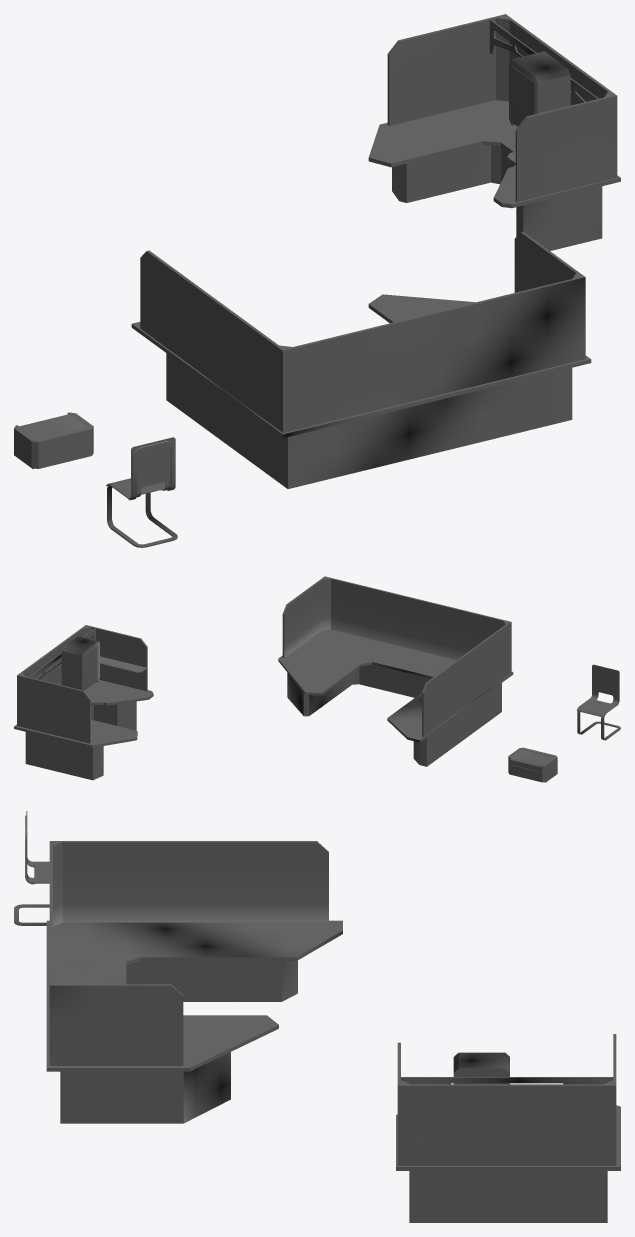
File: Props_02.FBX
3 views of the same model, one above another, from view 1: azimuth 30°, elevation 25°; view 2: azimuth 150°, elevation 25°; view 3: azimuth 270°, elevation 25° (orthographic). The views are drawn at different scales.
Parts seen in each view (by area): view 1: Object36374, Object36381, Object36377, Object36371, Object36369, Object36384, Object36382, Object36375; view 2: Object36374, Object36381, Object36377, Object36369, Object36371, Object36375, Object36384, Object36385, Object36382; view 3: Object36374, Object36381, Object36382, Object36369, Object36377.
Part boxes in pixels (x1,y1,x2,y2): Object36374: (131, 231, 591, 488); Object36381: (368, 14, 620, 250); Object36377: (106, 437, 177, 547); Object36371: (14, 412, 93, 468); Object36369: (509, 51, 570, 125); Object36384: (512, 66, 534, 126); Object36382: (489, 19, 598, 103); Object36375: (19, 414, 86, 438); Object36374: (278, 576, 513, 766); Object36381: (14, 625, 153, 780); Object36377: (576, 664, 620, 740); Object36369: (61, 636, 99, 690); Object36371: (508, 747, 557, 782); Object36375: (510, 749, 552, 771); Object36384: (84, 645, 97, 689); Object36385: (100, 656, 146, 672); Object36382: (28, 628, 95, 679); Object36374: (46, 841, 342, 1123); Object36381: (396, 1034, 620, 1222); Object36382: (401, 1077, 613, 1084); Object36369: (453, 1052, 509, 1084); Object36377: (14, 811, 49, 925).
Size of the model in its own units: 391 by 84.94 by 309.
